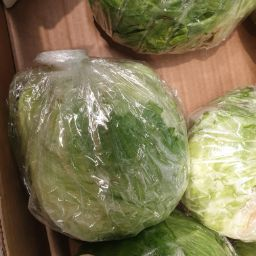Lettuce: (3, 44, 195, 240), (166, 83, 256, 256), (87, 2, 256, 69), (103, 197, 256, 256)
